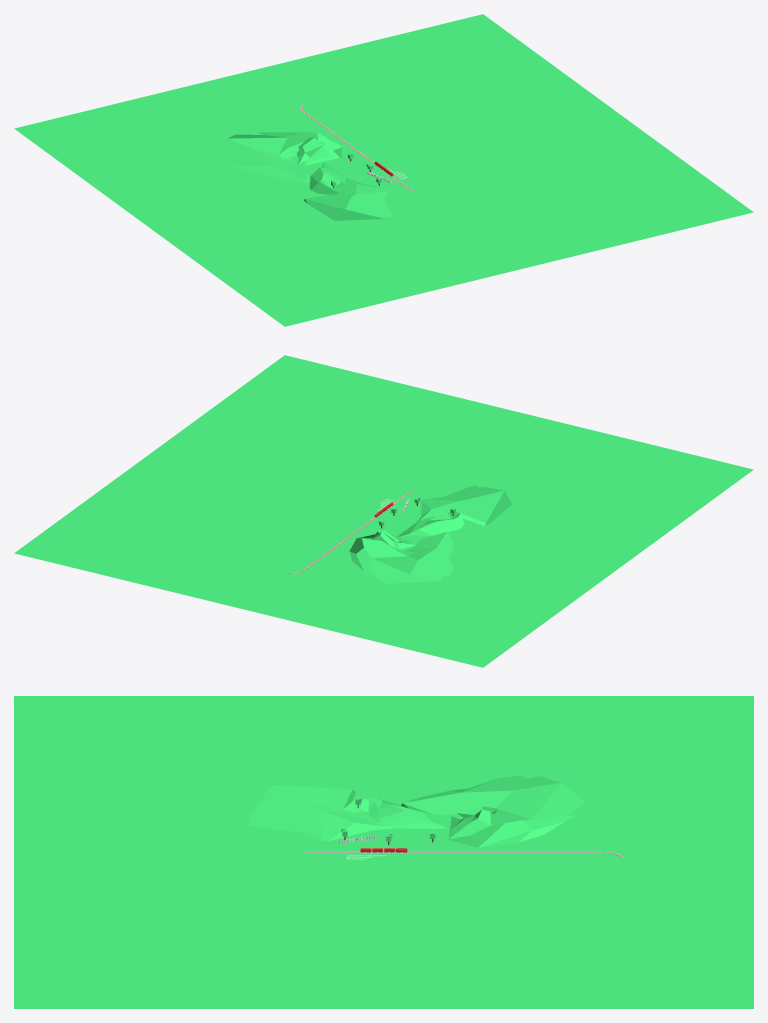
3 renders of one model, top to bottom at view 1: azimuth 30°, elevation 25°; view 2: azimuth 150°, elevation 25°; view 3: azimuth 270°, elevation 25°, orthographic. The views are drawn at different scales.
Parts seen in each view (by area): view 1: Plane, Mountain2, Mountain1; view 2: Plane, Mountain2, Mountain1; view 3: Plane, Mountain2, Mountain1, Titles.
Boxes of the visible parts, x1=… form: Plane: x1=14, y1=14, x2=753, y2=326; Mountain2: x1=212, y1=132, x2=342, y2=182; Mountain1: x1=304, y1=162, x2=392, y2=220; Plane: x1=14, y1=355, x2=753, y2=667; Mountain2: x1=349, y1=530, x2=453, y2=583; Mountain1: x1=398, y1=485, x2=511, y2=537; Plane: x1=14, y1=696, x2=753, y2=1008; Mountain2: x1=401, y1=776, x2=585, y2=847; Mountain1: x1=247, y1=785, x2=446, y2=841; Titles: x1=345, y1=848, x2=388, y2=866.
Size of the model in its own units: 122 by 14.68 by 122.
11 materials, 8 textured.
